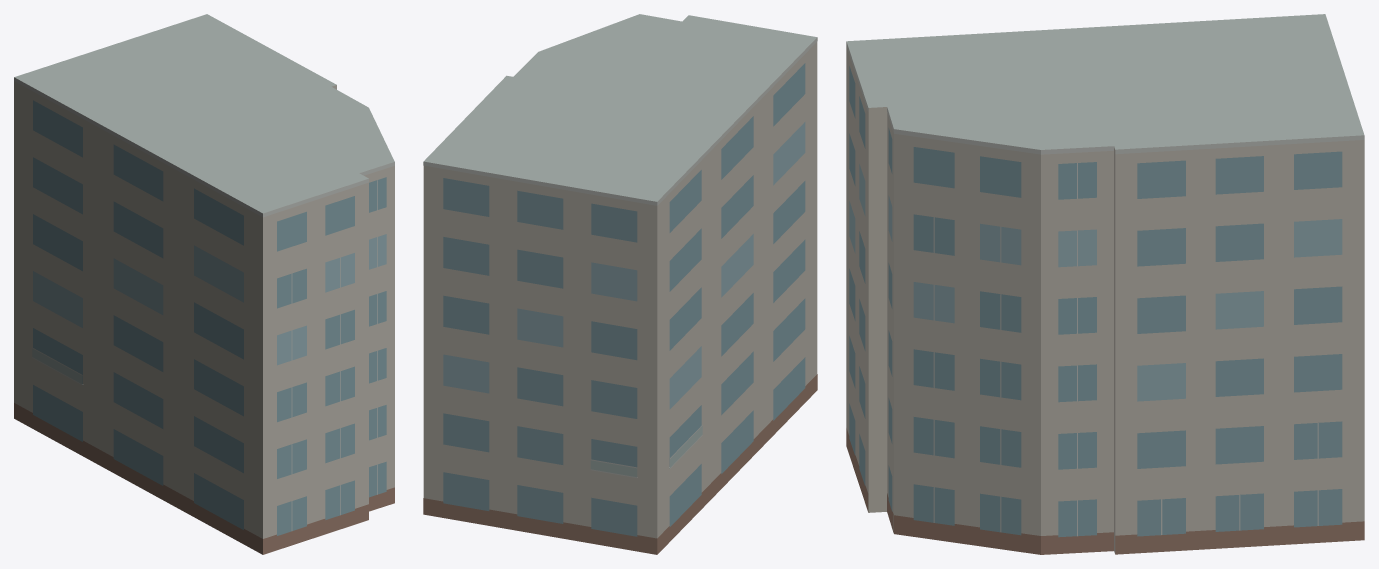
Rendered from survey-upis-32993047.glb.
3 renders of one model, left to right at view 1: azimuth 30°, elevation 25°; view 2: azimuth 150°, elevation 25°; view 3: azimuth 270°, elevation 25°, orthographic. The views are drawn at different scales.
Visible parts, largest first — view 1: survey-upis-32993047.tmp; view 2: survey-upis-32993047.tmp; view 3: survey-upis-32993047.tmp.
Boxes of the visible parts, x1,y1,x2,y2 form: survey-upis-32993047.tmp: (14, 14, 394, 554); survey-upis-32993047.tmp: (423, 14, 817, 554); survey-upis-32993047.tmp: (846, 14, 1364, 554).
Bounding box in the file's own units: 15.32 × 21.25 × 24.65.
